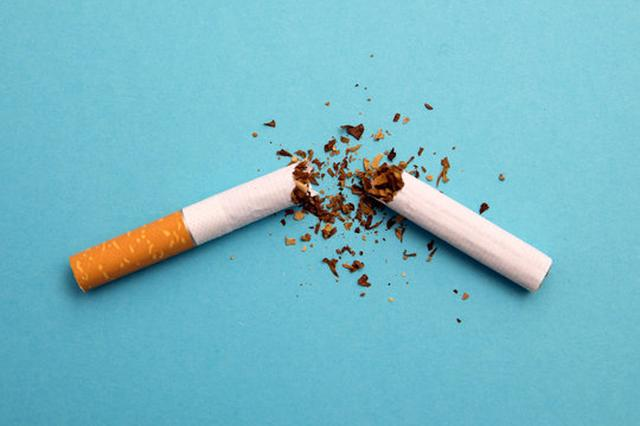Cigarette: (67, 157, 317, 294), (358, 161, 553, 293)
